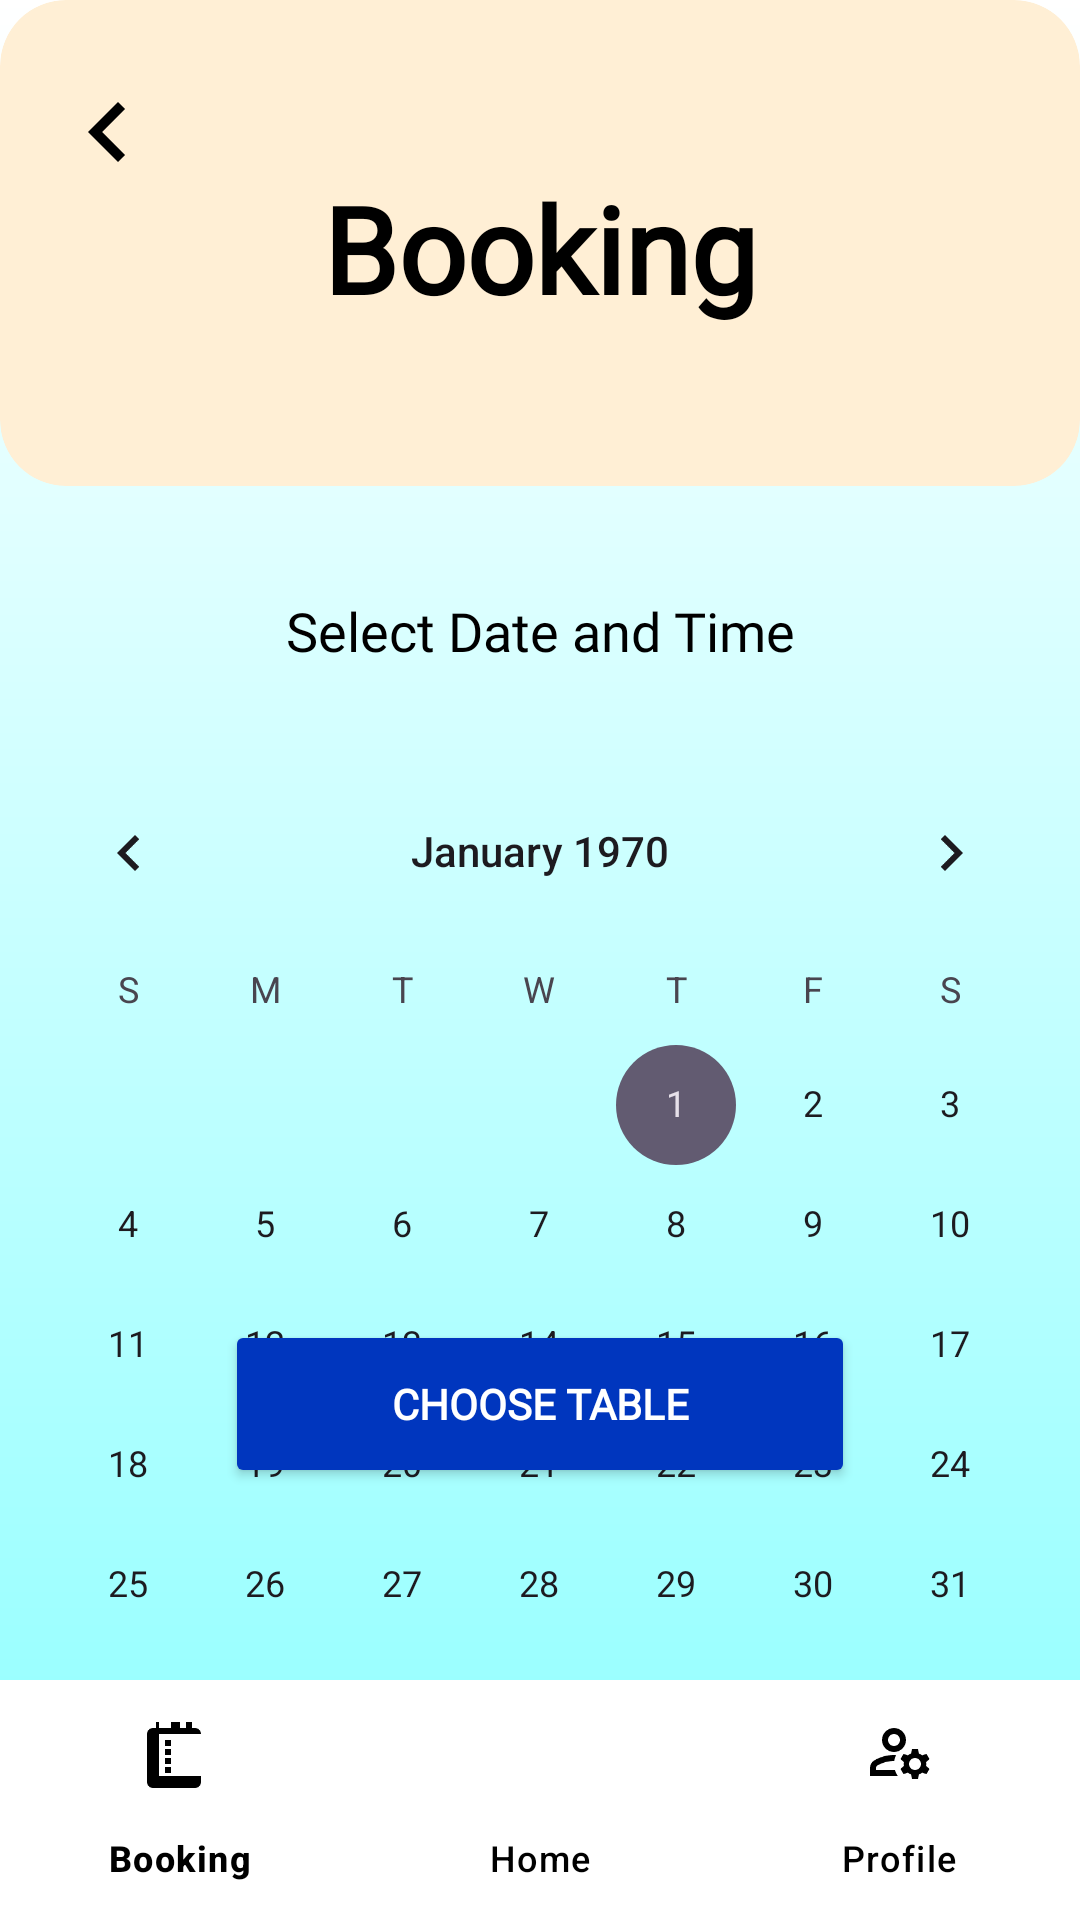

Icons on this 1080×1920 Android screen, each with the point to tap as [x,y]:
Back: [106,132]
